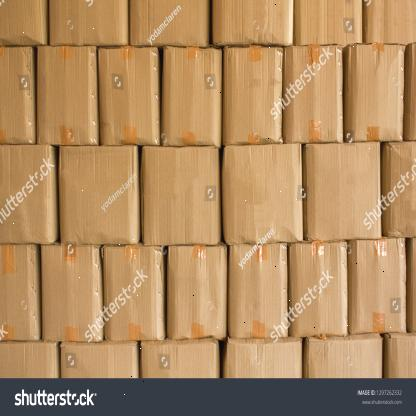box: (59, 144, 138, 244), (223, 145, 302, 242), (142, 146, 220, 243), (307, 143, 381, 240), (97, 46, 160, 144), (42, 245, 102, 344), (38, 46, 98, 144), (162, 46, 222, 144), (284, 45, 343, 141), (224, 46, 282, 142), (346, 45, 404, 141), (229, 244, 287, 340), (168, 245, 227, 339), (351, 237, 407, 334), (105, 245, 162, 340), (0, 143, 51, 243), (290, 242, 346, 333), (0, 245, 38, 342), (212, 0, 292, 46), (48, 0, 127, 46), (130, 0, 209, 45), (0, 46, 34, 144), (295, 0, 362, 43), (365, 0, 415, 44), (0, 0, 47, 46)
